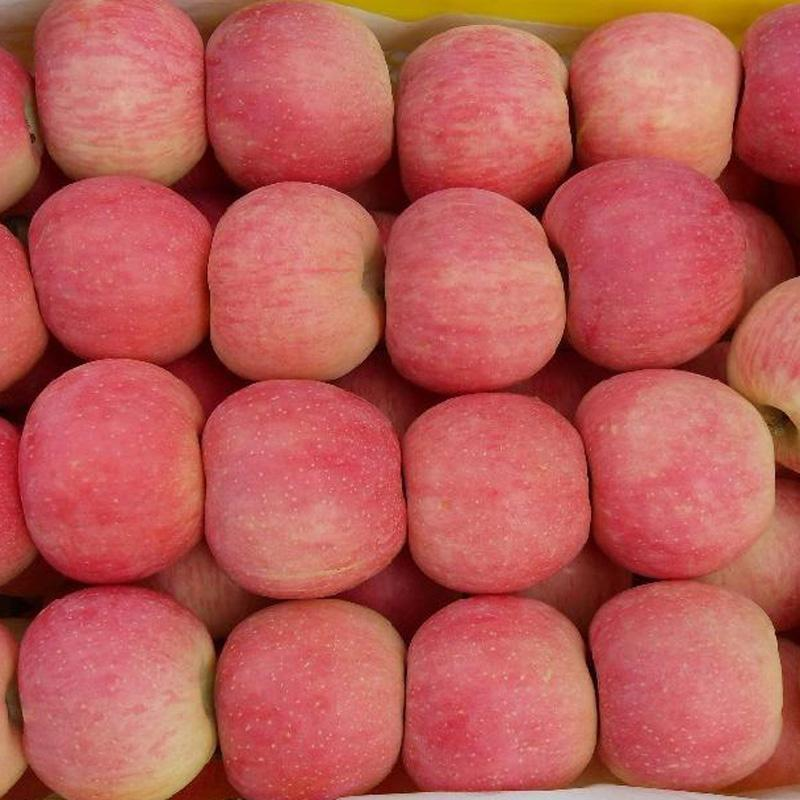apple: (203, 382, 406, 603), (575, 367, 776, 581), (17, 584, 213, 800), (549, 155, 745, 370), (586, 579, 785, 788), (23, 355, 206, 579), (398, 389, 589, 597), (209, 599, 407, 796), (398, 596, 599, 789), (380, 191, 566, 395), (208, 183, 388, 379), (208, 3, 395, 184), (29, 176, 208, 365), (33, 2, 207, 188), (391, 22, 568, 197), (569, 14, 740, 180)
